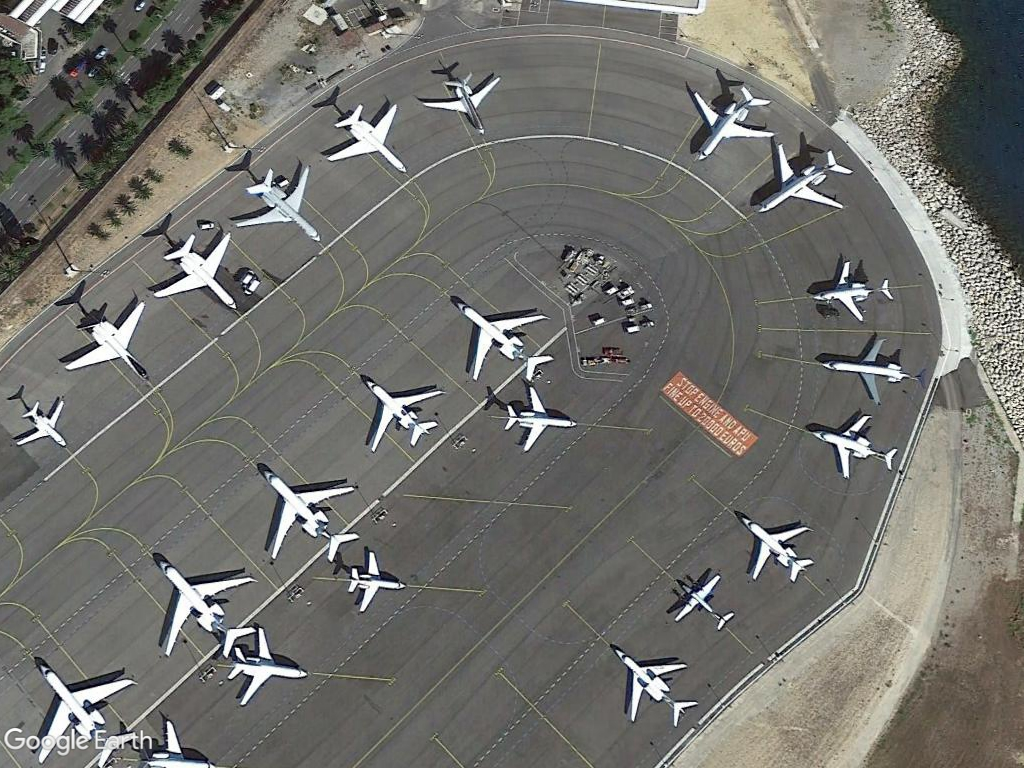chartered: (150, 554, 254, 659), (256, 464, 362, 563), (815, 329, 939, 410), (448, 294, 558, 385), (147, 226, 245, 320), (606, 641, 704, 730), (228, 164, 323, 247), (64, 302, 156, 385), (805, 405, 902, 483), (357, 373, 445, 453), (733, 509, 819, 588), (808, 256, 895, 323), (8, 397, 75, 450)
